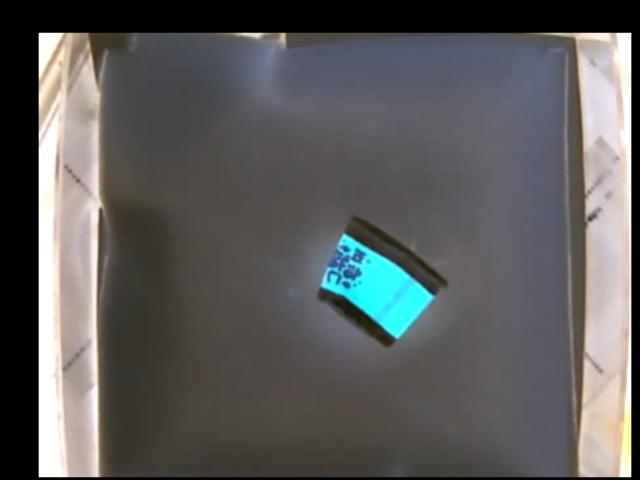Cup: (314, 212, 447, 347)
